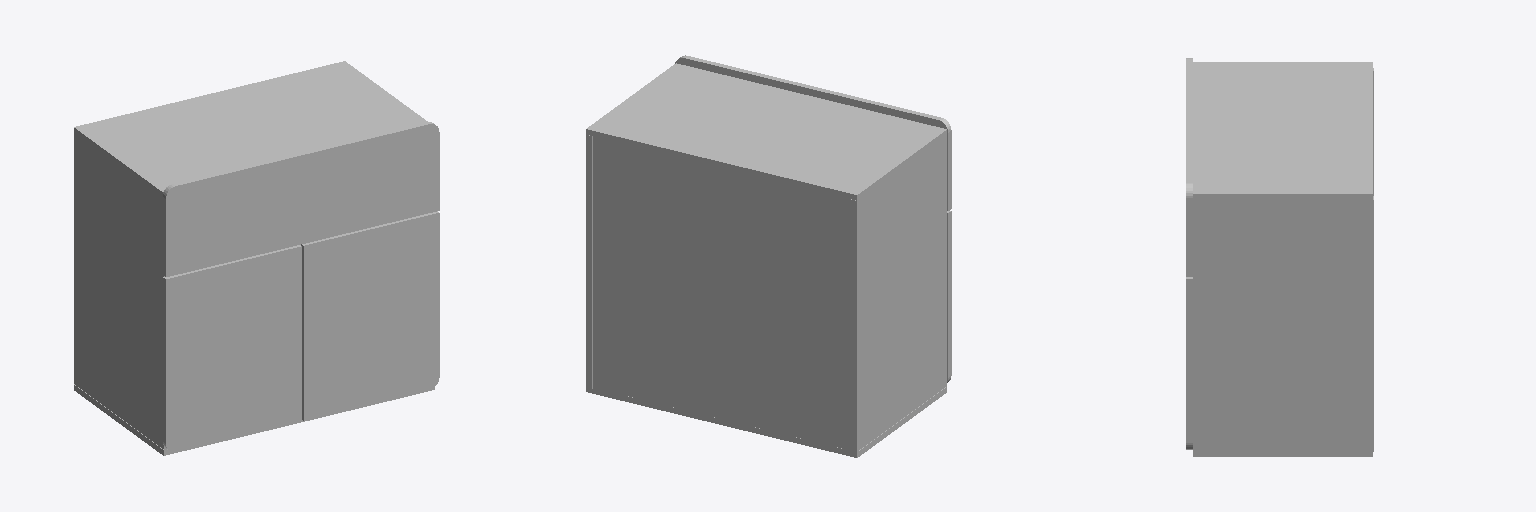
File: 2pir_komoda.obj
3 renders of one model, left to right at view 1: azimuth 30°, elevation 25°; view 2: azimuth 150°, elevation 25°; view 3: azimuth 270°, elevation 25°, orthographic.
Visible parts, largest first — view 1: Rectangle060, Box004, Box002, Box003; view 2: Plane069, Box004, Box002, Rectangle060, Box003, Box001; view 3: Box001, Box004, Rectangle060, Box003.
Part boxes in pixels (bbox=[...]): Rectangle060: bbox=[163, 122, 439, 451]; Box004: bbox=[74, 61, 427, 197]; Box002: bbox=[74, 134, 166, 450]; Box003: bbox=[74, 384, 434, 455]; Plane069: bbox=[593, 137, 849, 449]; Box004: bbox=[586, 63, 946, 200]; Box002: bbox=[850, 136, 946, 452]; Rectangle060: bbox=[675, 55, 951, 382]; Box003: bbox=[586, 387, 946, 457]; Box001: bbox=[586, 135, 592, 388]; Box001: bbox=[1193, 196, 1373, 451]; Box004: bbox=[1193, 62, 1372, 199]; Rectangle060: bbox=[1186, 58, 1192, 449]; Box003: bbox=[1193, 451, 1372, 456].
Bounding box in the file's own units: 96.74 × 91.28 × 57.28.